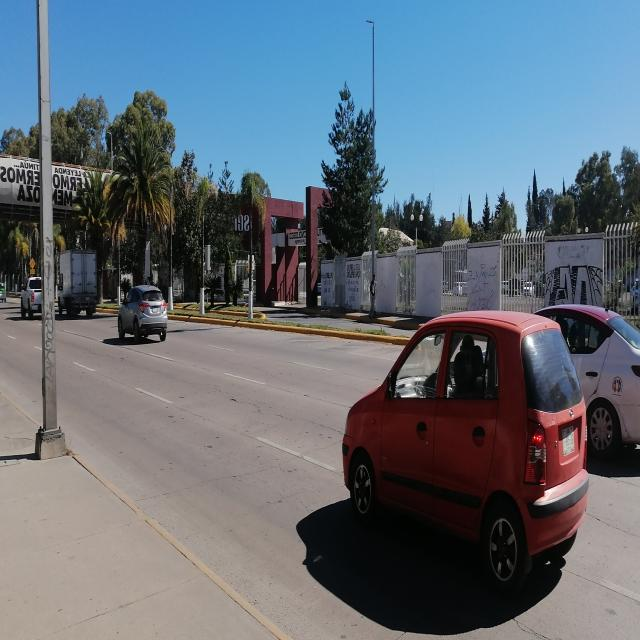Auto: (342, 304, 586, 590), (555, 298, 639, 456), (116, 280, 170, 344)
